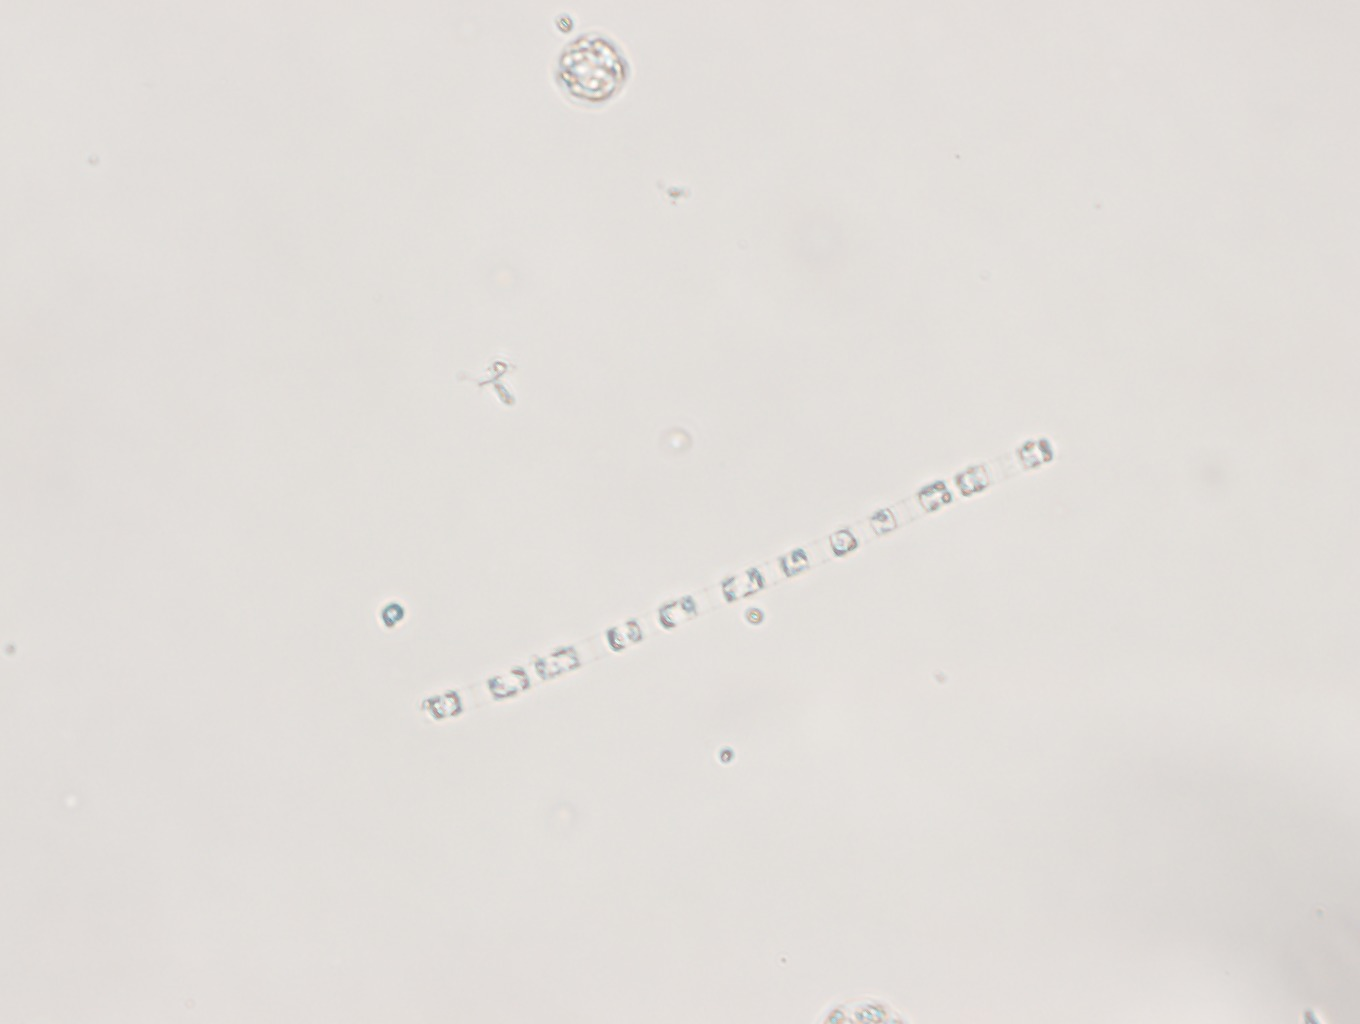skeletonema: (413, 433, 1056, 724)
